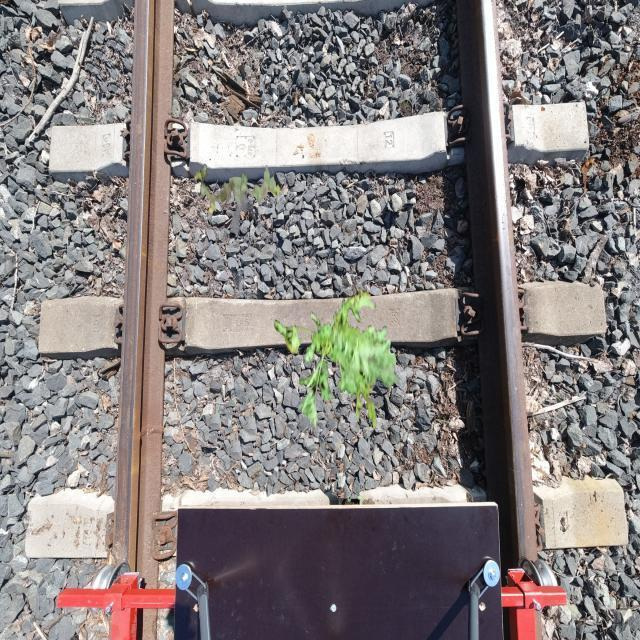Plant: (274, 286, 399, 433), (194, 163, 280, 214)
